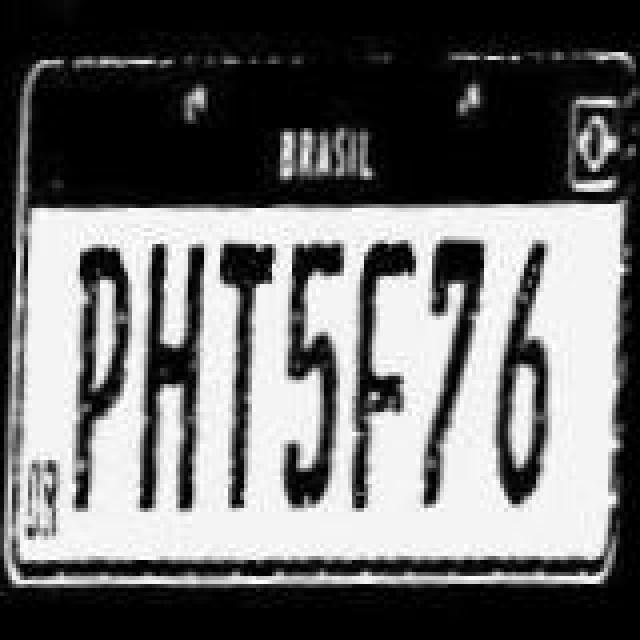5: (274, 224, 354, 528)
6: (484, 230, 568, 530)
7: (406, 228, 494, 524)
F: (342, 220, 422, 536)
H: (130, 216, 218, 520)
P: (66, 238, 138, 514)
T: (194, 236, 282, 536)
